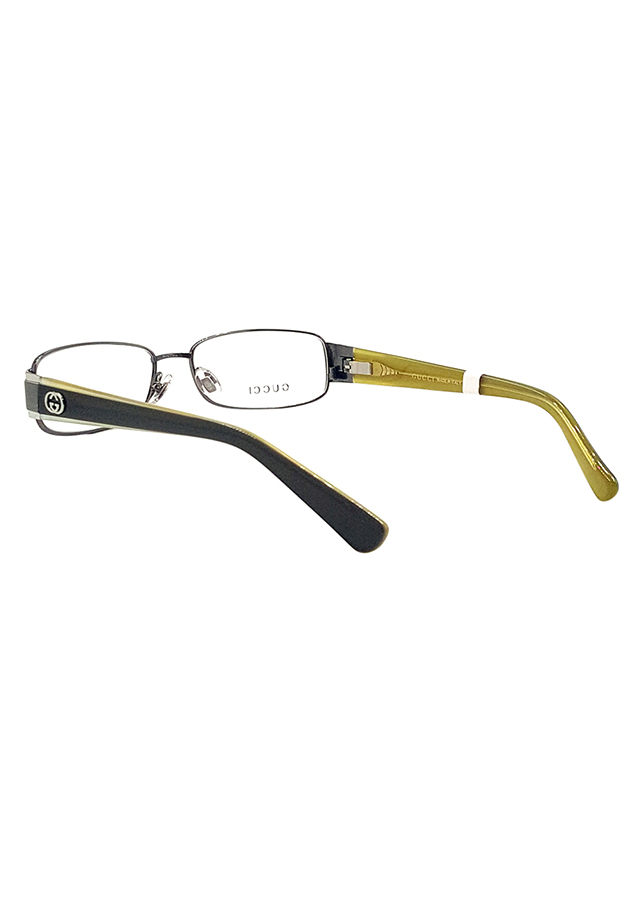Gucci: (238, 375, 299, 397), (39, 381, 71, 419), (404, 367, 441, 390)
